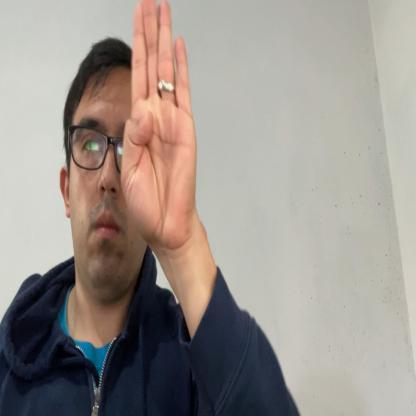B: (122, 0, 198, 252)
